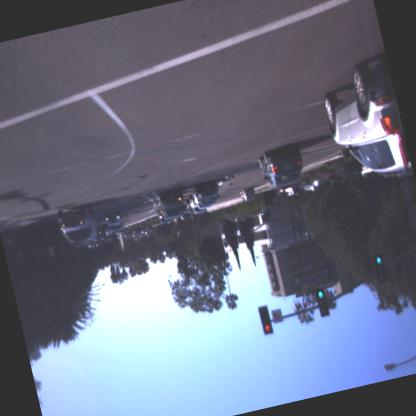trafficlight: (310, 282, 335, 322), (366, 248, 392, 285), (256, 301, 278, 338)
